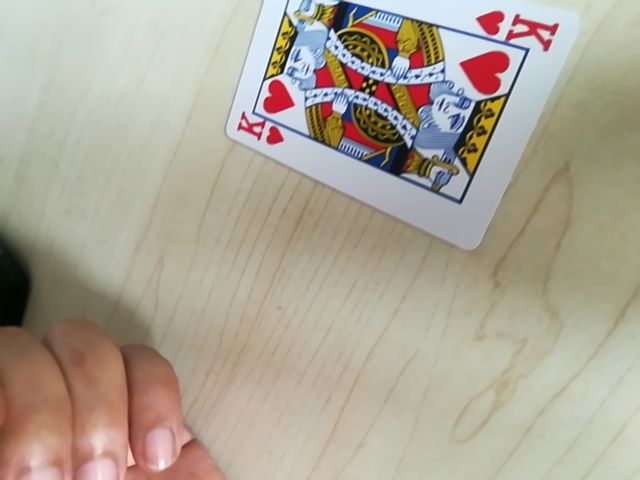hx k: (474, 5, 562, 49), (231, 114, 287, 150)
